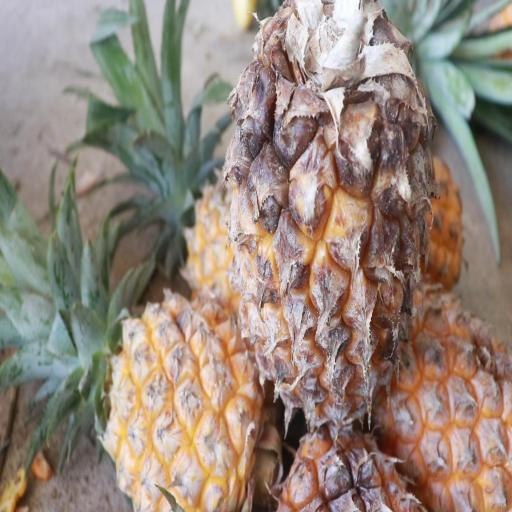Pineapple - v8 v1: (222, 0, 436, 440), (104, 214, 283, 512), (373, 270, 512, 507)
